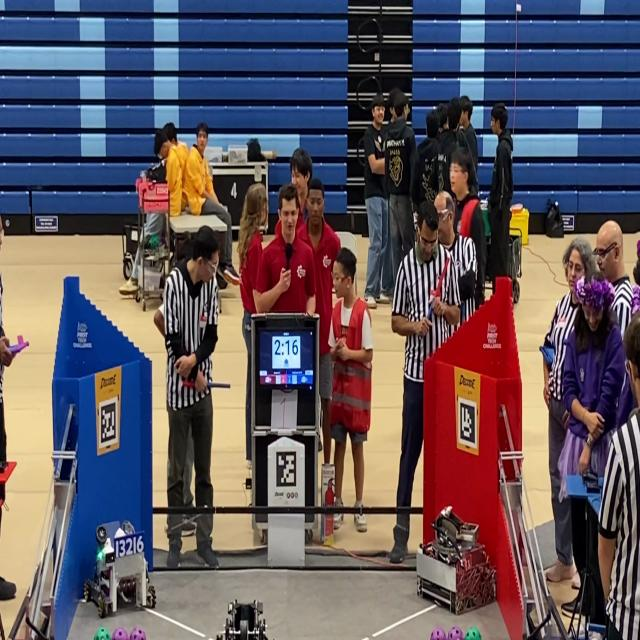artifact_green: (94, 627, 111, 639), (465, 627, 481, 639), (149, 235, 159, 250)
artifact_purple: (447, 627, 464, 639), (129, 627, 146, 639), (430, 627, 446, 639), (112, 628, 129, 639)
